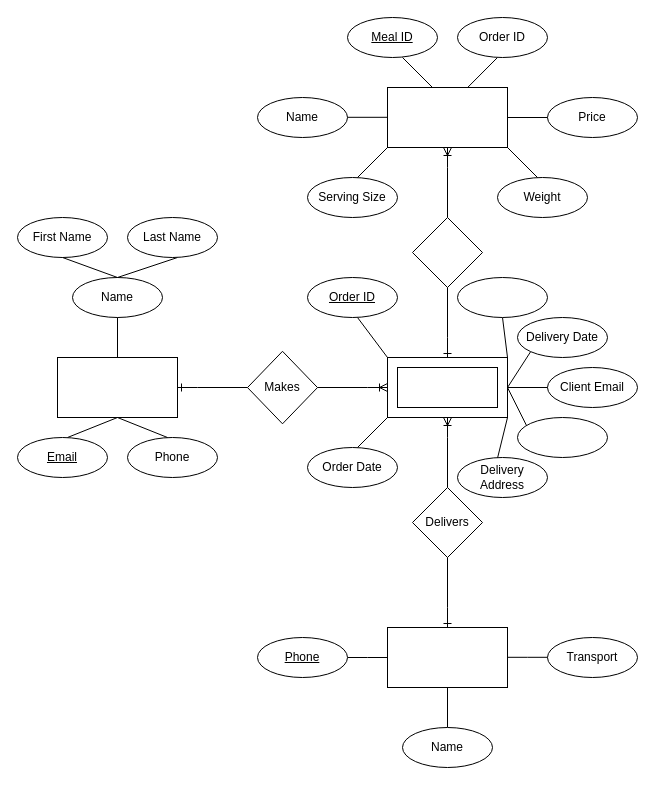
Some shapes in this 655 by 785 pixel diagram are drawn without their labels. Each missing label, with the centre of its shape:
Client: [117,387]
Contains: [447,252]
Courier: [447,657]
Courier Phone: [502,297]
Meal: [447,117]
Order: [447,387]
Rating: [562,437]
